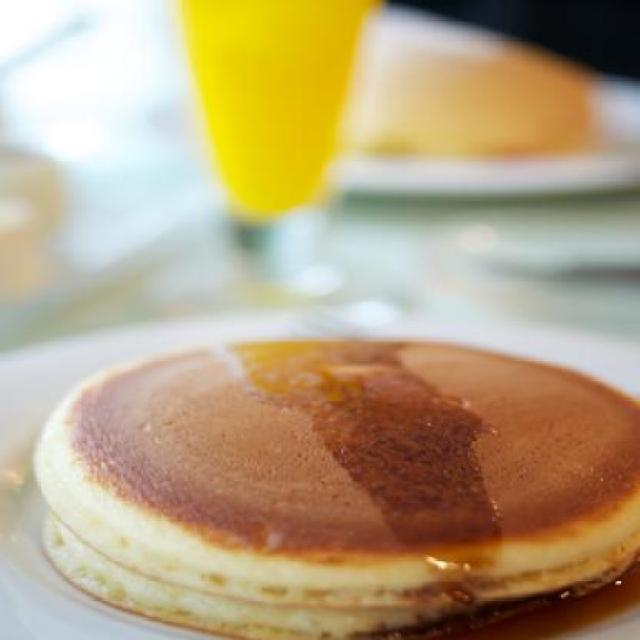Pancake: (33, 338, 639, 606)
